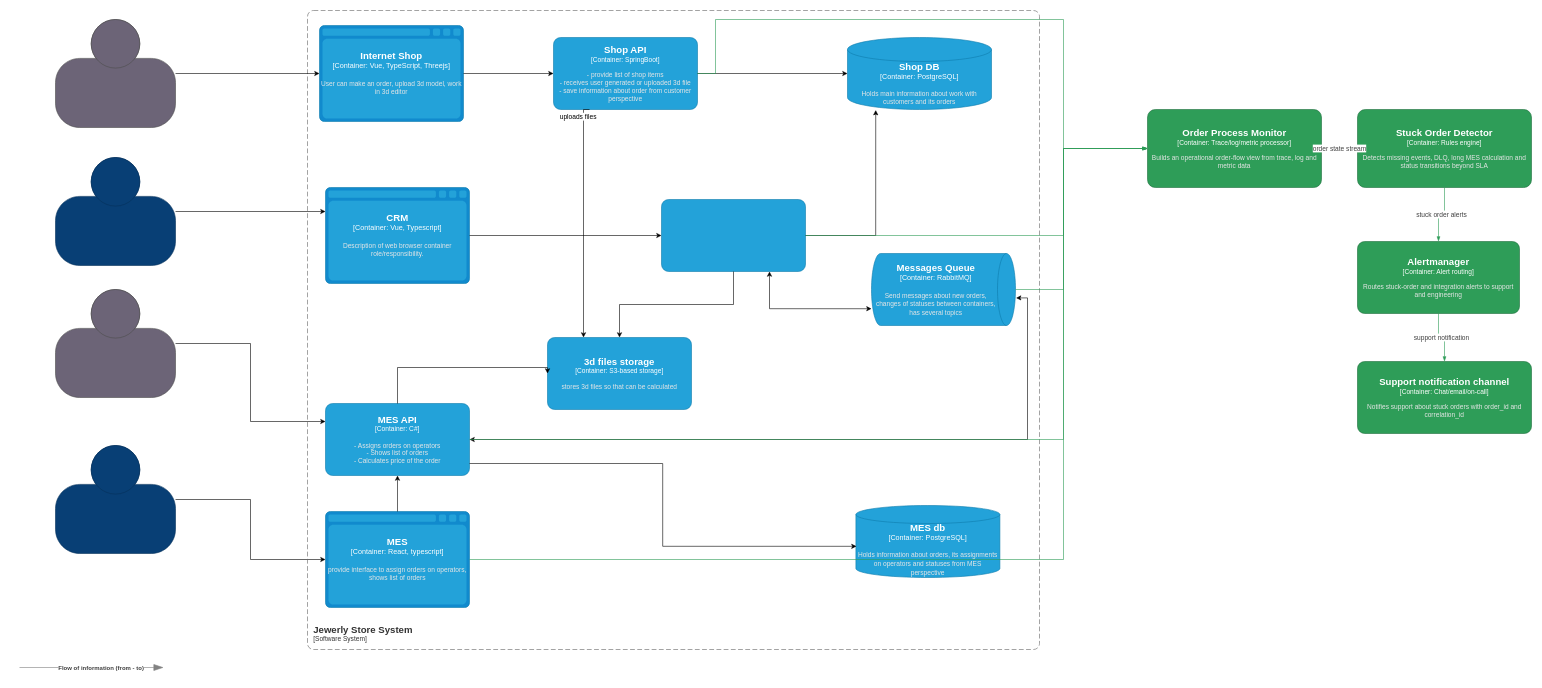
This 1542x688 diagram has some shape labels left out. Here are the shapes that lost their labels. From the top down, the centre of each, then its label:
At point 115,73: "Customer [Person] Description of external person.".
At point 115,211: "Seller [Person] Operates with order, confirms manufacturing for the user".
At point 733,235: "CRM API [Container: SpringBoot] Description of container role/responsibility.".
At point 115,343: "API user [Person] Description of external person.".
At point 115,499: "Operator [Person] Takes order in work, manufactures jewerly".
